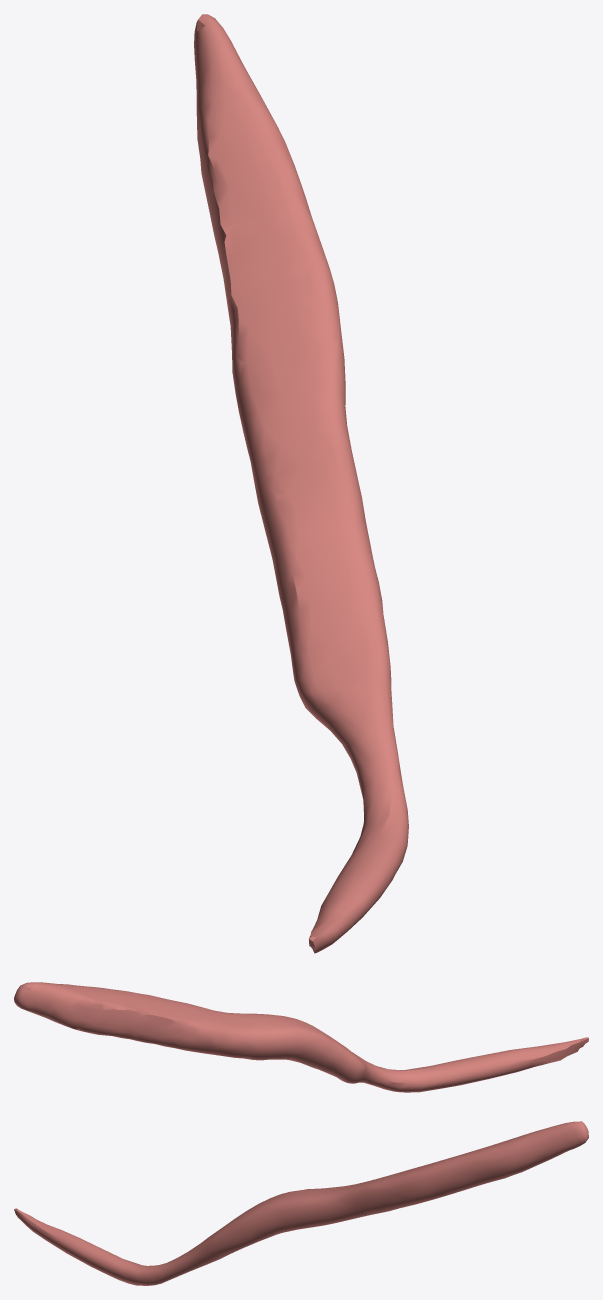
File: fma37745_mm1747m.glb
The picture shows the model from 3 angles, top to bottom: view 1: azimuth 30°, elevation 25°; view 2: azimuth 150°, elevation 25°; view 3: azimuth 270°, elevation 25°; orthographic projection. The views are drawn at different scales.
Visible parts, largest first — view 1: FMA37745_MM1747M; view 2: FMA37745_MM1747M; view 3: FMA37745_MM1747M.
Boxes of the visible parts, x1,y1,x2,y2 form: FMA37745_MM1747M: (194, 14, 408, 953); FMA37745_MM1747M: (14, 982, 588, 1092); FMA37745_MM1747M: (14, 1121, 588, 1285).
Size of the model in its own units: 0.0261 by 0.0238 by 0.0545.
